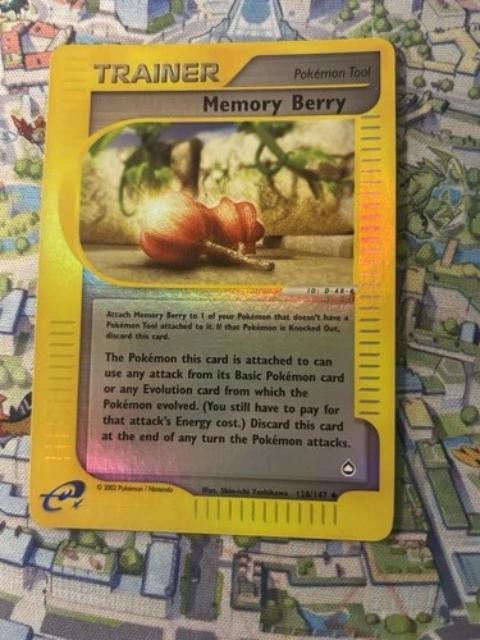Card: (21, 32, 398, 547)
Name: (193, 89, 354, 120)
